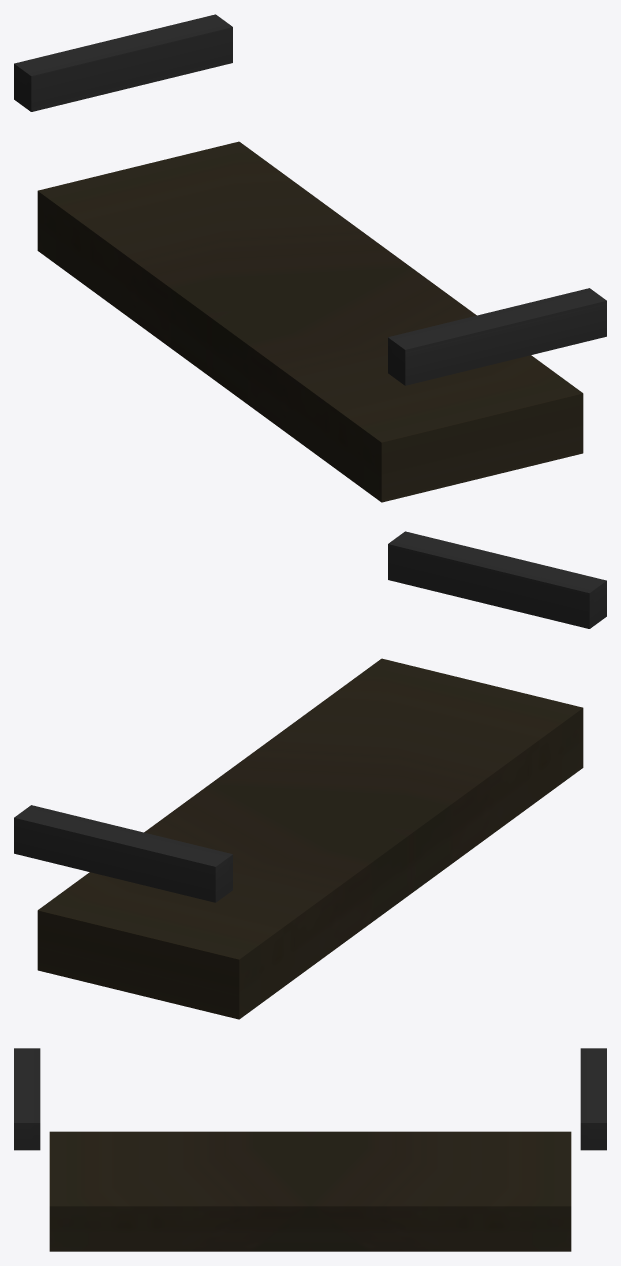
The model's file is train_middle_pp_placeholder_v011.fbx.
3 renders of one model, top to bottom at view 1: azimuth 30°, elevation 25°; view 2: azimuth 150°, elevation 25°; view 3: azimuth 270°, elevation 25°, orthographic. The views are drawn at different scales.
Visible parts, largest first — view 1: mittelstück p auf p v1; view 2: mittelstück p auf p v1; view 3: mittelstück p auf p v1.
Part boxes in pixels (x1=…): mittelstück p auf p v1: x1=14, y1=14, x2=606, y2=502; mittelstück p auf p v1: x1=14, y1=531, x2=606, y2=1019; mittelstück p auf p v1: x1=14, y1=1048, x2=606, y2=1251.
Size of the model in its own units: 336 by 80.45 by 100.
Materials: 2 (2 with a texture image).
